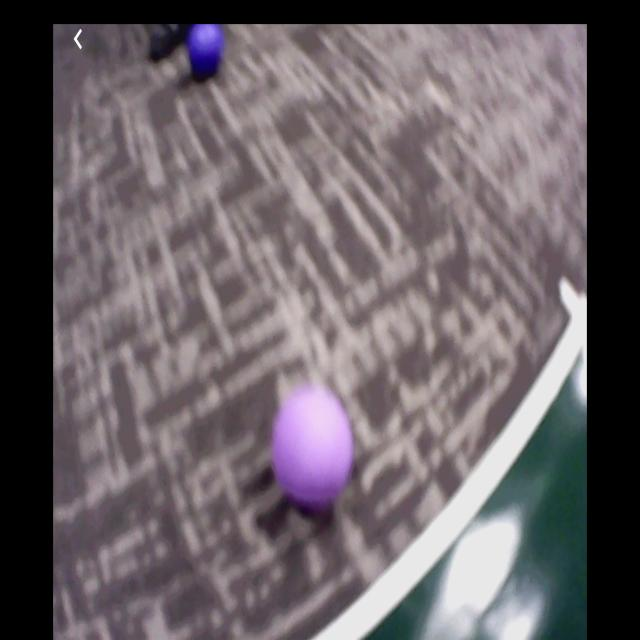ball: (275, 384, 353, 505), (189, 27, 224, 78)
